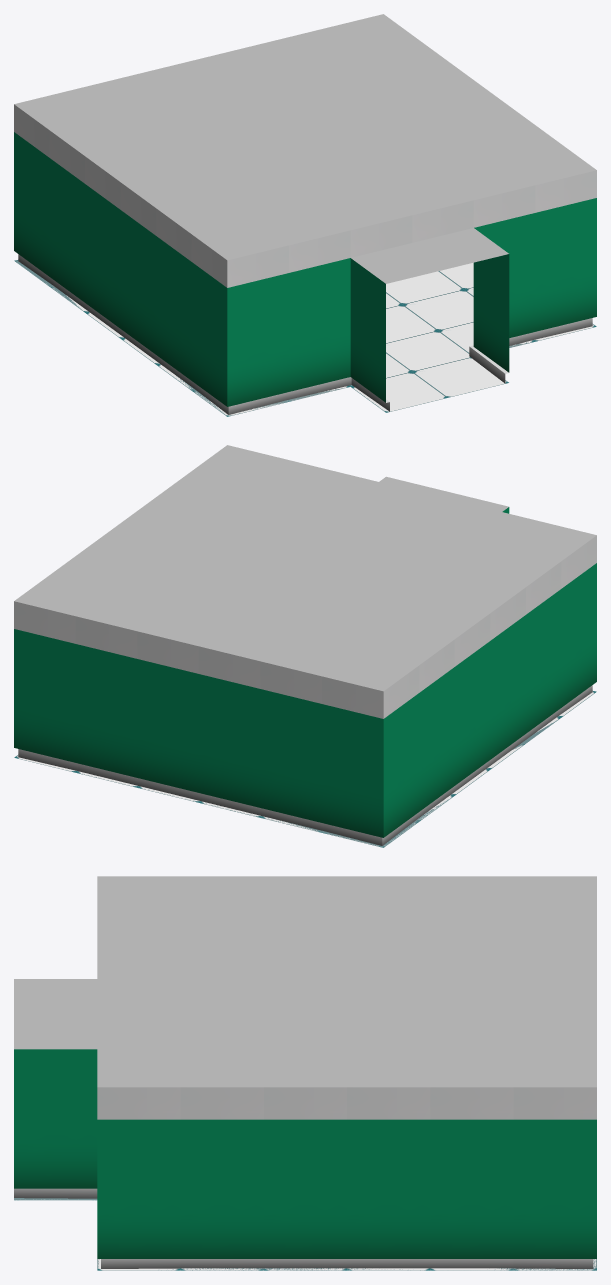
File: SalaGrandeBio.fbx
The picture shows the model from 3 angles, top to bottom: view 1: azimuth 30°, elevation 25°; view 2: azimuth 150°, elevation 25°; view 3: azimuth 270°, elevation 25°; orthographic projection. The views are drawn at different scales.
Parts seen in each view (by area): view 1: SalaGrandeBIO; view 2: SalaGrandeBIO; view 3: SalaGrandeBIO.
Boxes of the visible parts, x1,y1,x2,y2 form: SalaGrandeBIO: [14, 14, 596, 416]; SalaGrandeBIO: [14, 445, 596, 847]; SalaGrandeBIO: [14, 876, 596, 1270].
Bounding box in the file's own units: 600 × 243 × 700.
Materials: 1 (1 with a texture image).
